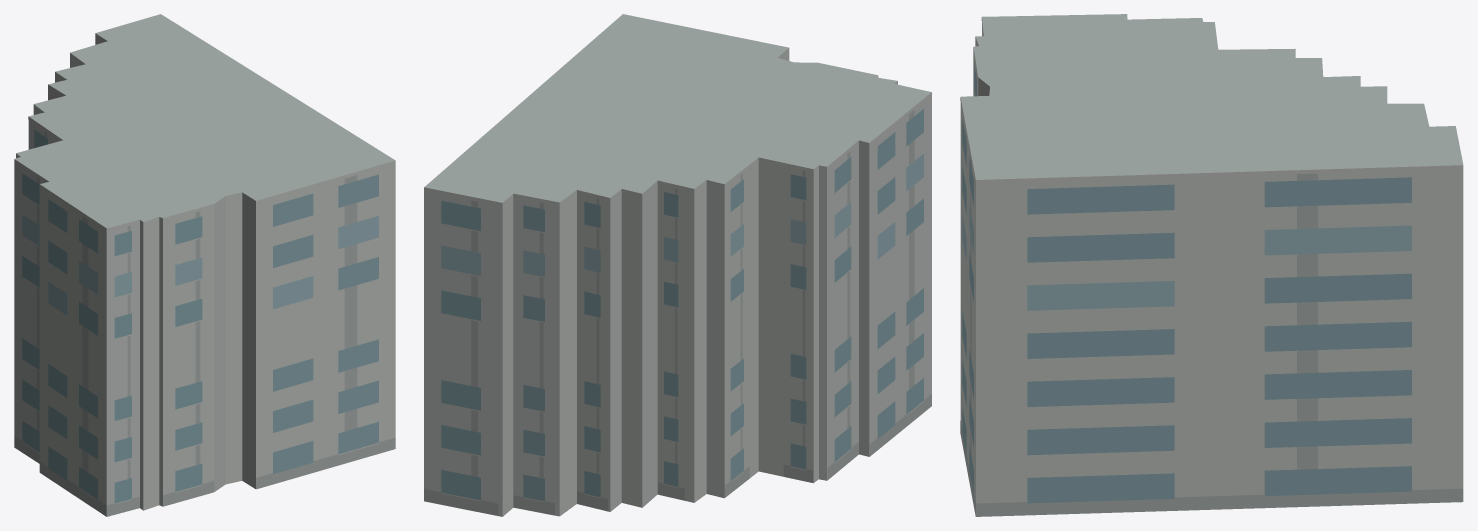
File: survey-upis-32916207.glb
The picture shows the model from 3 angles, left to right: view 1: azimuth 30°, elevation 25°; view 2: azimuth 150°, elevation 25°; view 3: azimuth 270°, elevation 25°; orthographic projection. The views are drawn at different scales.
Visible parts, largest first — view 1: survey-upis-32916207.tmp; view 2: survey-upis-32916207.tmp; view 3: survey-upis-32916207.tmp.
Part boxes in pixels (x1,y1,x2,y2): survey-upis-32916207.tmp: [14, 14, 395, 516]; survey-upis-32916207.tmp: [424, 14, 931, 516]; survey-upis-32916207.tmp: [960, 14, 1463, 516].
Size of the model in its own units: 22.24 by 21.04 by 28.48.
